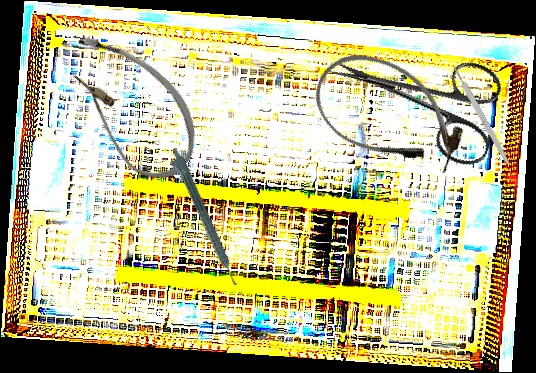Cannula: (38, 18, 220, 194), (298, 34, 480, 193)
Handpiece: (164, 146, 240, 290)
Iris Scissors: (315, 21, 513, 171)
Scalpel Handle: (451, 64, 511, 166)
